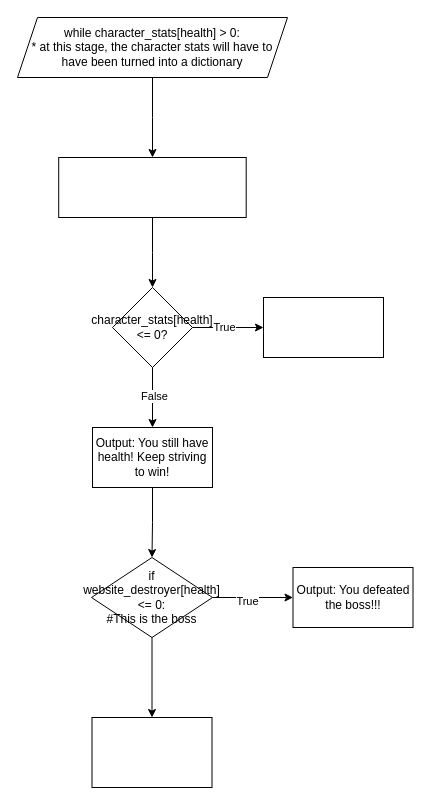
Image size: 431x805. Some labels were removed from this diagram. The centre of each missing label's shape, as x and y in pixels:
engine.navigate(character_stats): point 152,187
Output: Keep playing until you beat all the enemies and finally the boss!: point 151,752
Output: You lost the game.: point 323,327
